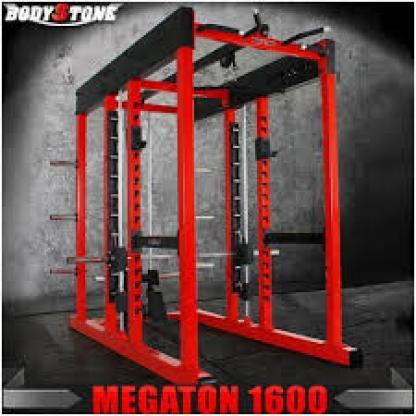smith machine: (48, 29, 367, 386)
